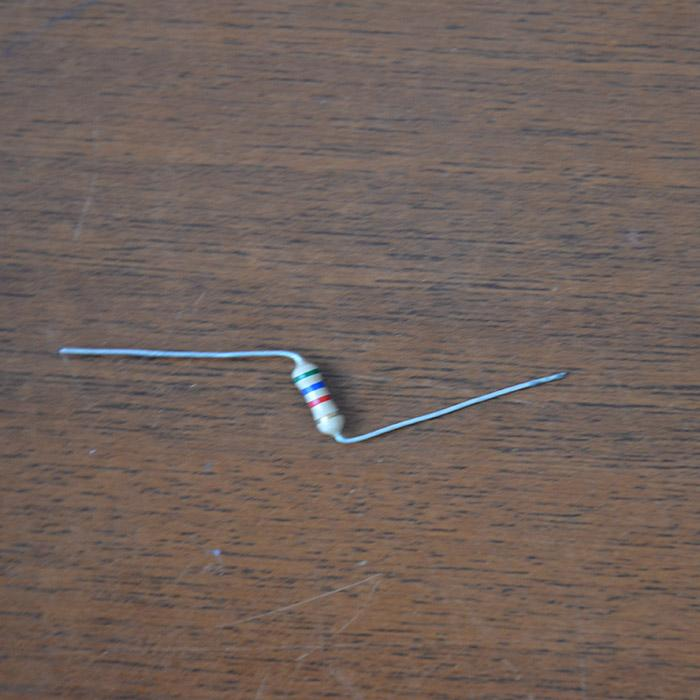resistor: (290, 359, 345, 438)
